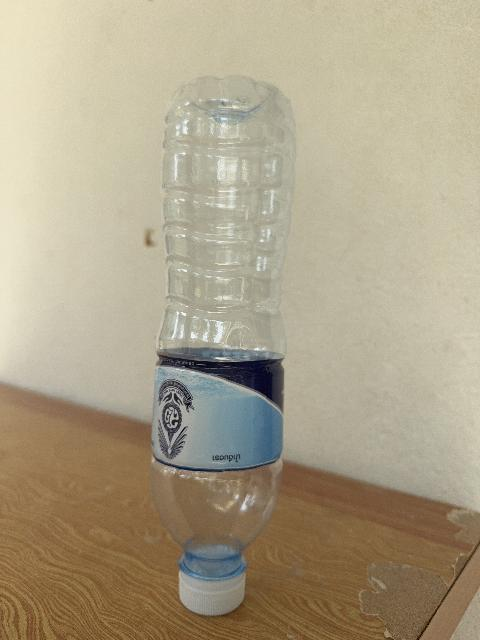bottle: (151, 77, 295, 614)
